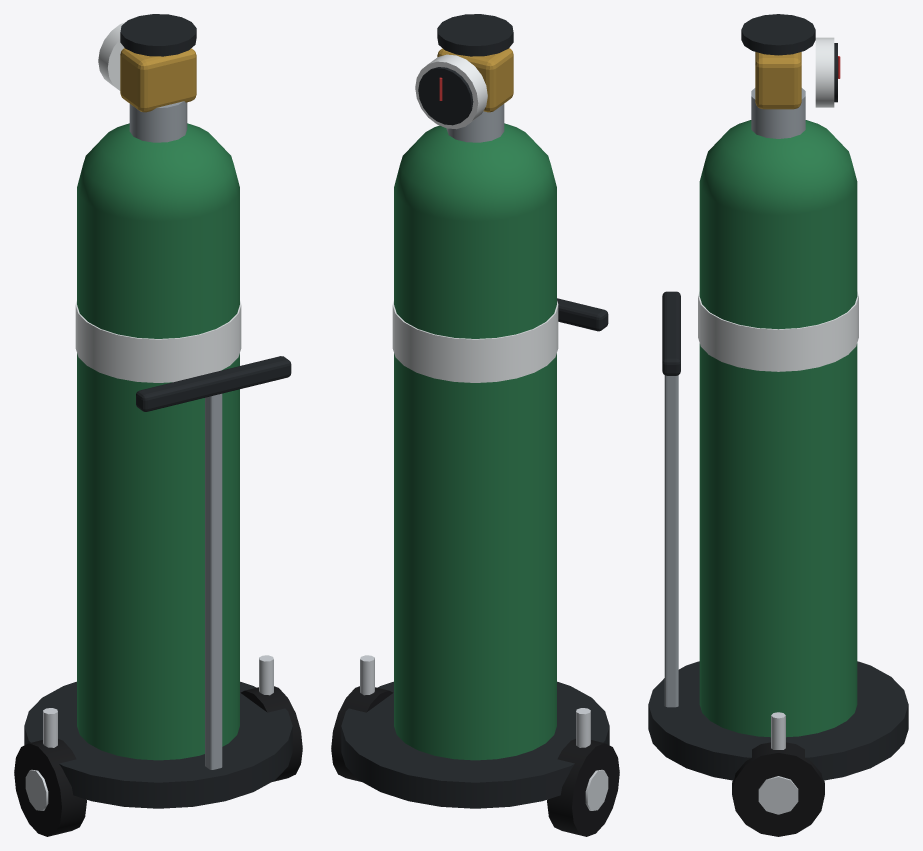
File: Oxygen_Cylinder.glb
3 renders of one model, left to right at view 1: azimuth 30°, elevation 25°; view 2: azimuth 150°, elevation 25°; view 3: azimuth 270°, elevation 25°, orthographic. The views are drawn at different scales.
Parts seen in each view (by area): view 1: Body.005, BasePlate, Shoulder.002, WhiteBand, TrolleyBar, Wheel.030, Valve.001, TrolleyGrip, HandWheel, Neck.001, Wheel.031, GaugeBody (+3 smaller); view 2: Body.005, BasePlate, Shoulder.002, WhiteBand, Wheel.030, HandWheel, GaugeFace, Valve.001, GaugeBody, Wheel.031, Neck.001, TrolleyGrip (+3 smaller); view 3: Body.005, BasePlate, Shoulder.002, WhiteBand, Wheel.031, TrolleyBar, Valve.001, HandWheel, Neck.001, TrolleyGrip, GaugeBody, WheelHub.031 (+1 smaller).
Part boxes in pixels (box(x1,y1,x2,y2)): Body.005: box(77, 188, 239, 760); BasePlate: box(24, 681, 292, 808); Shoulder.002: box(77, 123, 239, 221); WhiteBand: box(75, 301, 241, 382); TrolleyBar: box(205, 393, 222, 769); Wheel.030: box(14, 739, 86, 836); Valve.001: box(120, 48, 196, 112); TrolleyGrip: box(136, 356, 291, 411); HandWheel: box(120, 14, 196, 56); Neck.001: box(129, 101, 187, 142); Wheel.031: box(240, 686, 302, 781); GaugeBody: box(98, 22, 125, 90); Body.005: box(394, 188, 556, 760); BasePlate: box(341, 681, 609, 808); Shoulder.002: box(394, 123, 556, 221); WhiteBand: box(392, 301, 558, 382); Wheel.030: box(547, 739, 619, 836); HandWheel: box(437, 14, 513, 56); GaugeFace: box(418, 67, 473, 125); Valve.001: box(437, 48, 513, 112); GaugeBody: box(415, 54, 487, 129); Wheel.031: box(331, 686, 393, 781); Neck.001: box(446, 104, 504, 142); TrolleyGrip: box(557, 298, 608, 331); Body.005: box(699, 183, 857, 737); BasePlate: box(648, 661, 908, 780); Shoulder.002: box(699, 120, 857, 215); WhiteBand: box(698, 291, 858, 371); Wheel.031: box(732, 742, 824, 836); TrolleyBar: box(664, 375, 678, 707); Valve.001: box(755, 52, 801, 109); HandWheel: box(741, 14, 815, 55); Neck.001: box(751, 88, 805, 138); TrolleyGrip: box(662, 291, 680, 375); GaugeBody: box(815, 37, 834, 107); WheelHub.031: box(758, 776, 798, 814).
Size of the model in its own units: 0.295 by 0.891 by 0.28.
